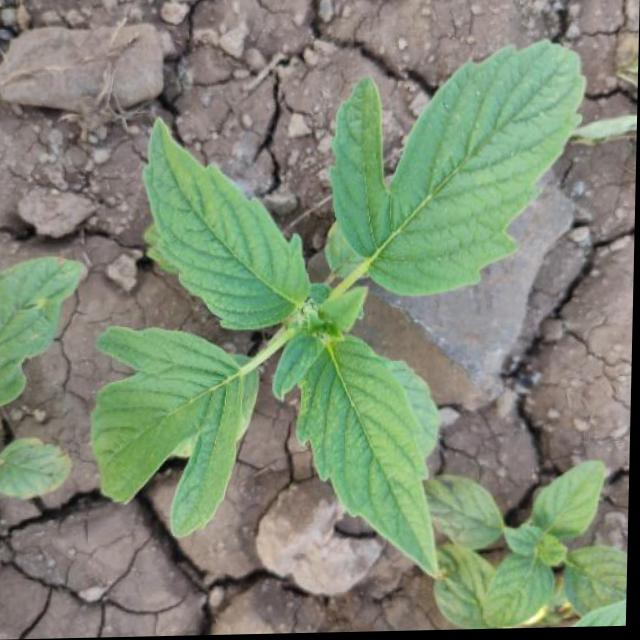crop: (79, 13, 596, 621)
